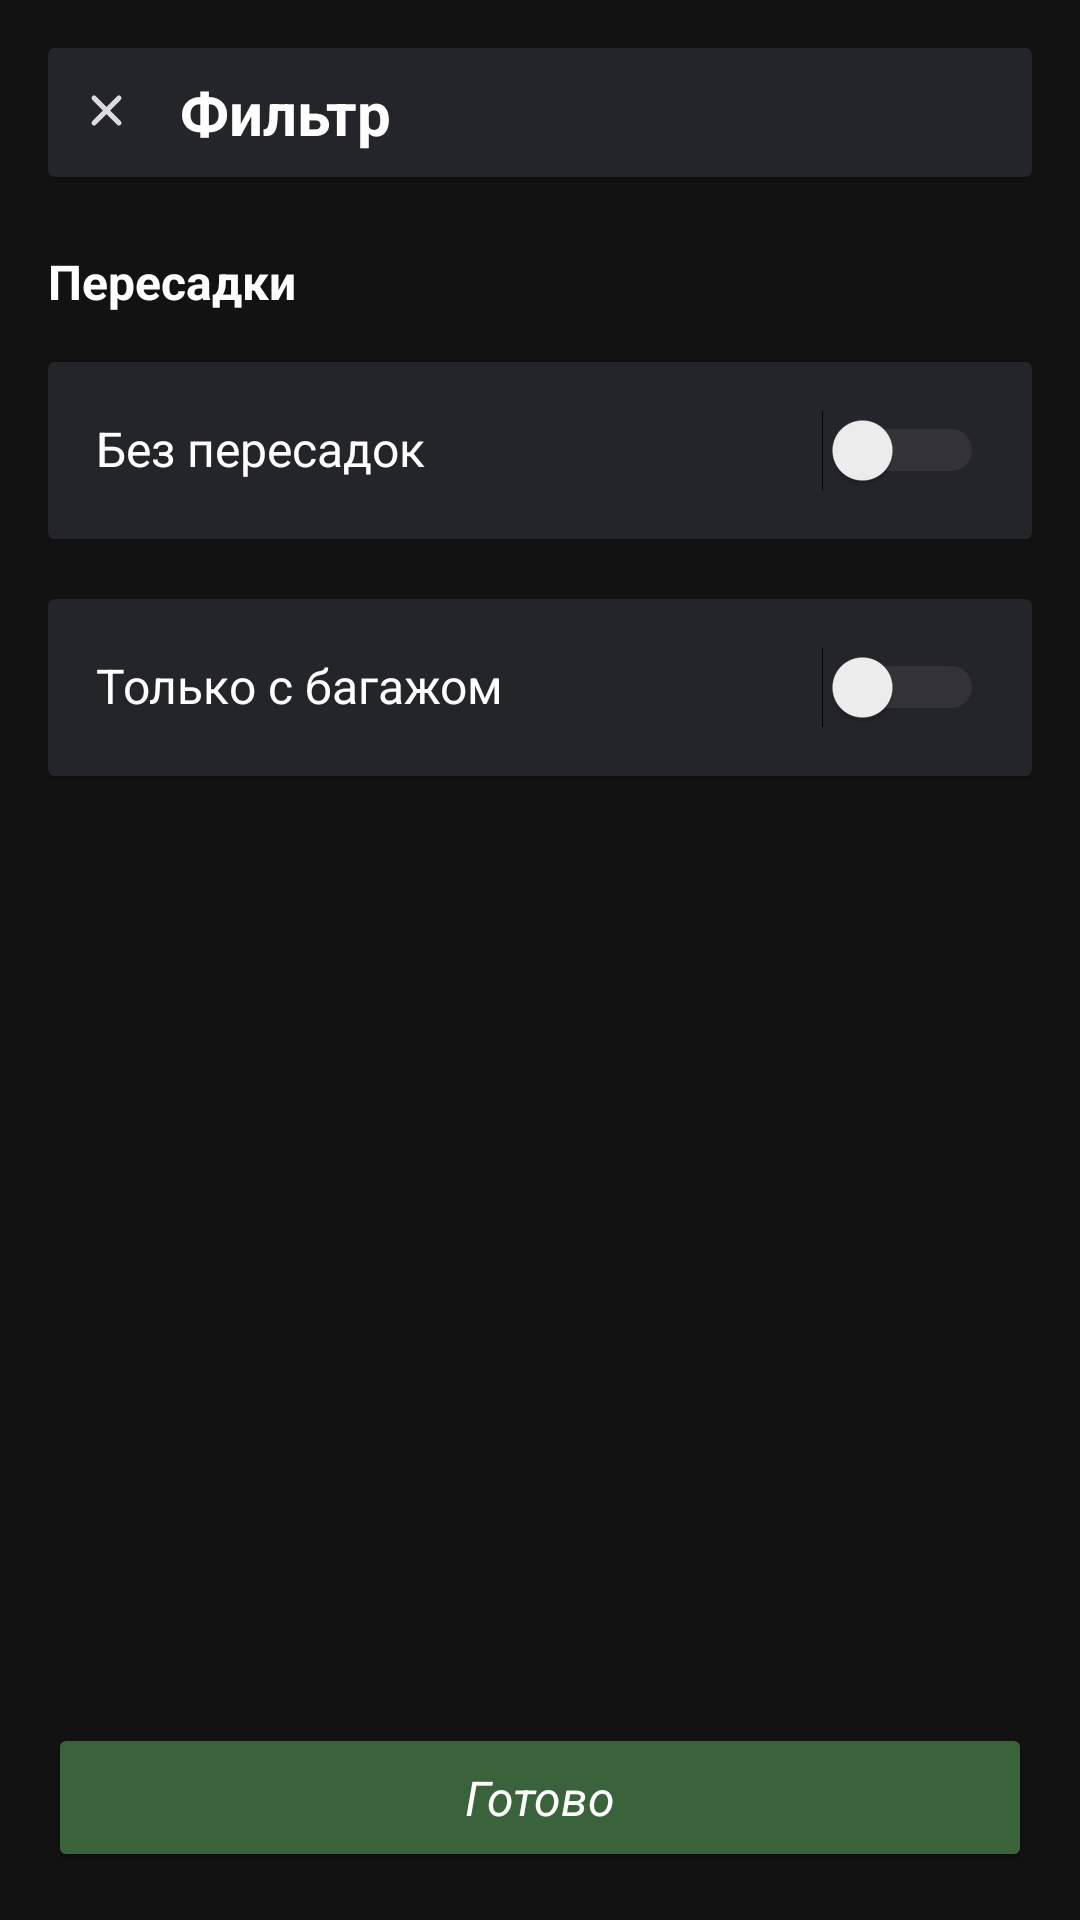

Locate icon controls on the screen. Image size 1080 × 1920, boxes as (x1=x1, y1=y1, x2=x2, y2=y2).
close: (x1=91, y1=95, x2=122, y2=126)
